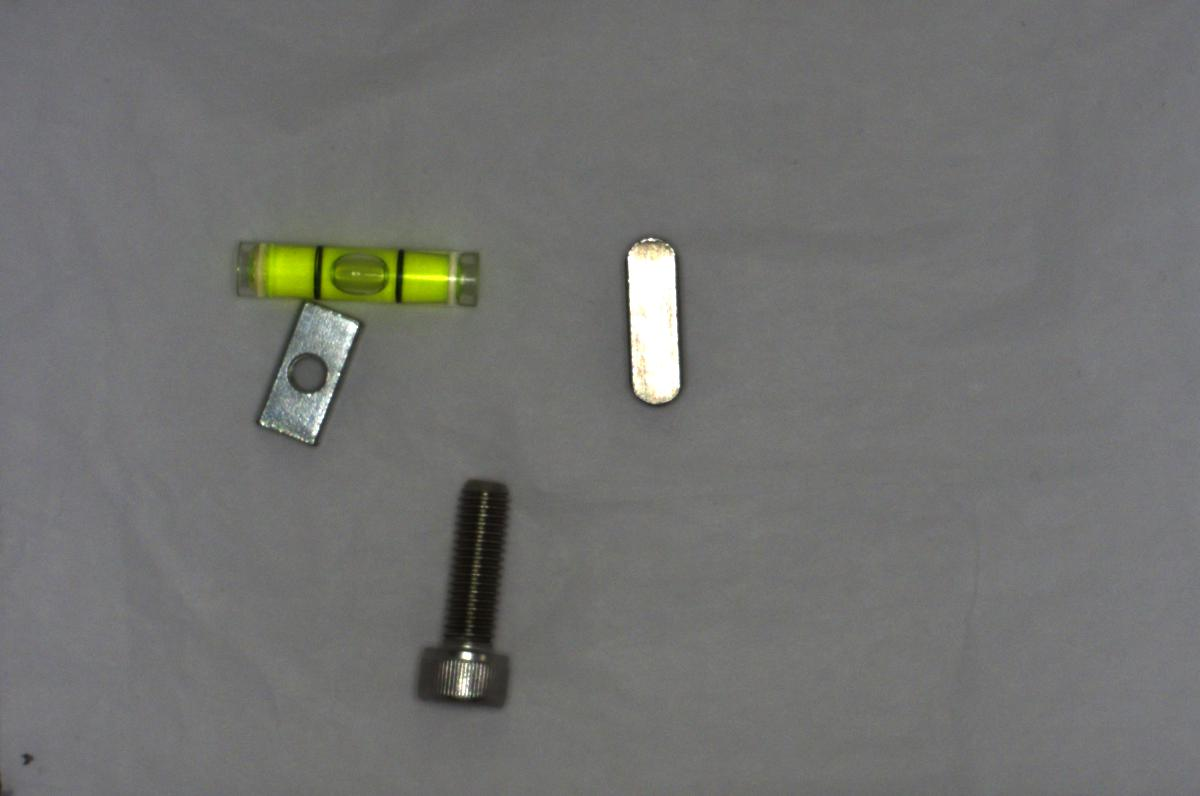Hexagon screw: (405, 476, 517, 722)
Horizontal bubble: (222, 228, 486, 315)
Keybar: (614, 229, 695, 407)
Rectangular nut: (253, 303, 362, 452)
